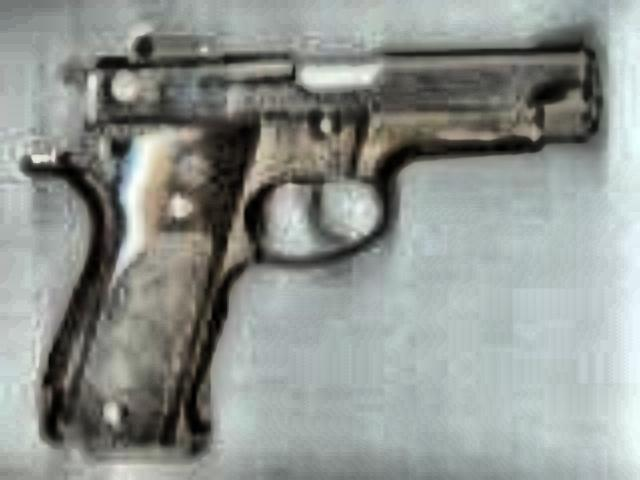pistol: (24, 20, 604, 460)
